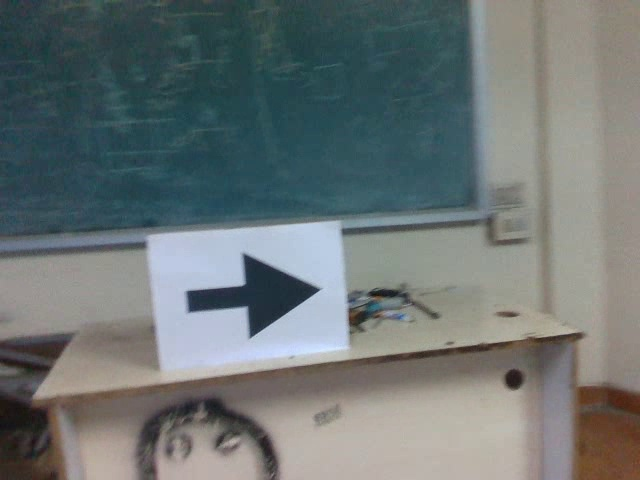Right: (178, 251, 328, 345)
